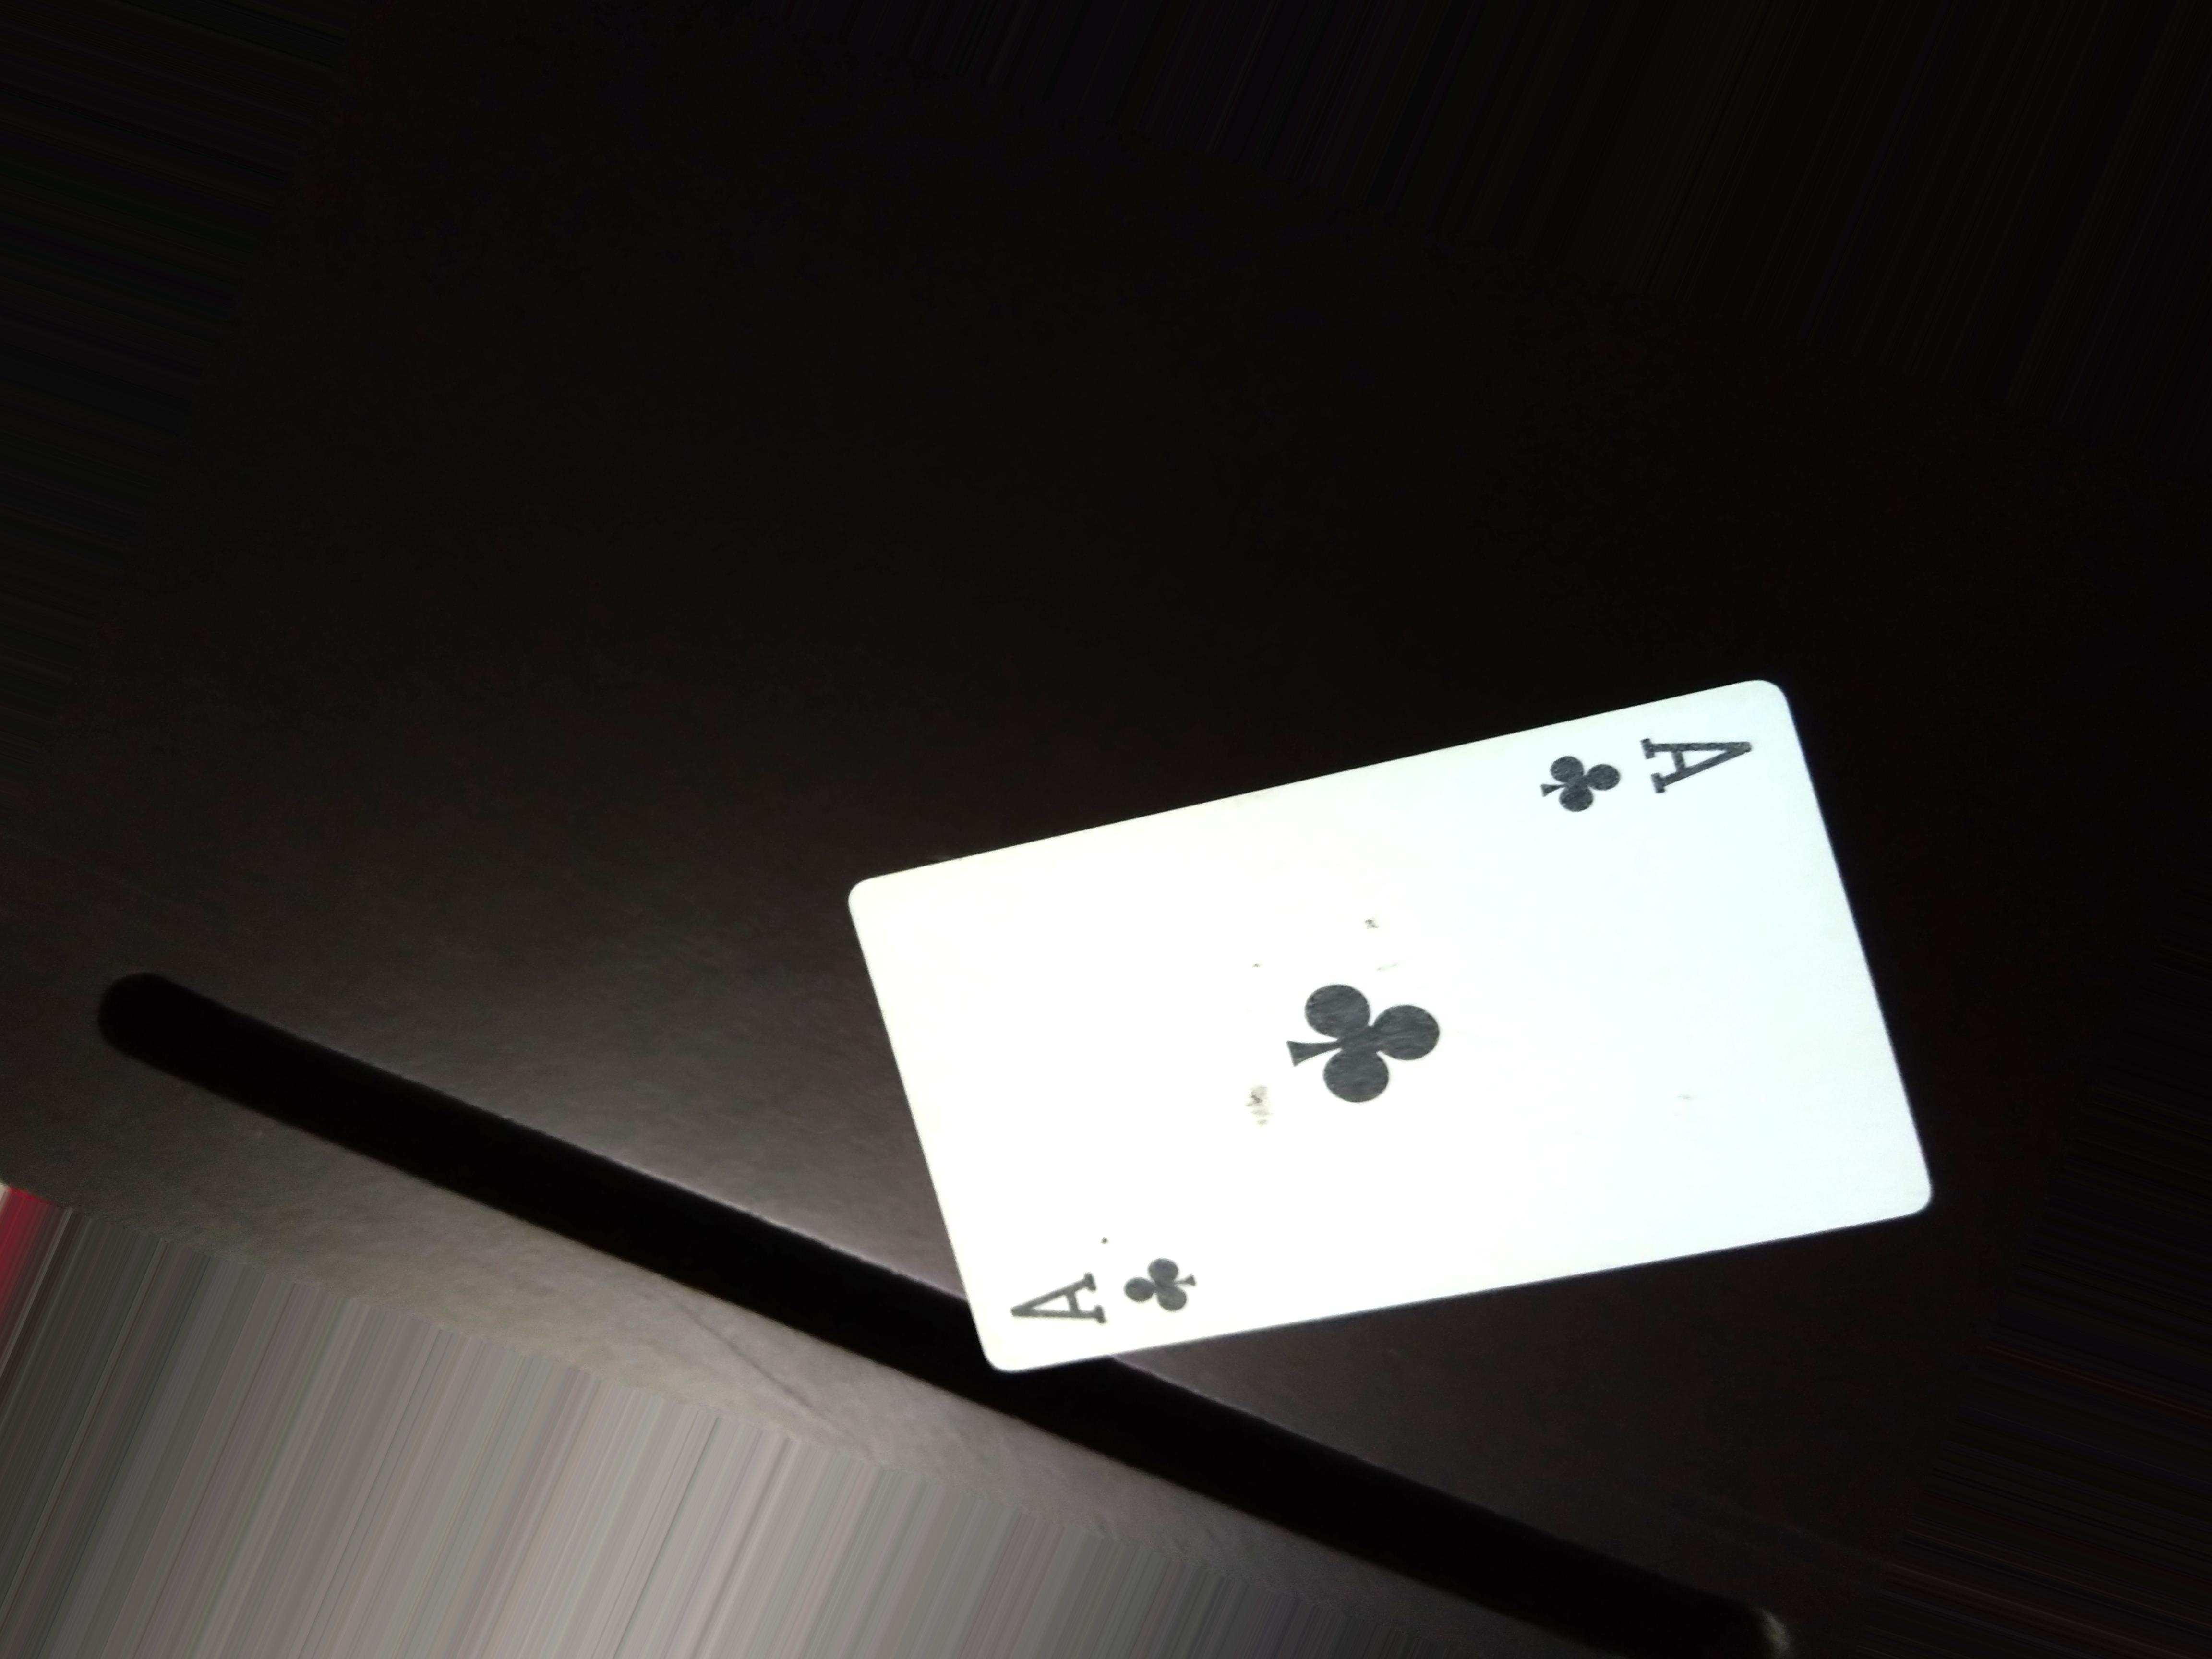AC: (1536, 735, 1766, 812)
